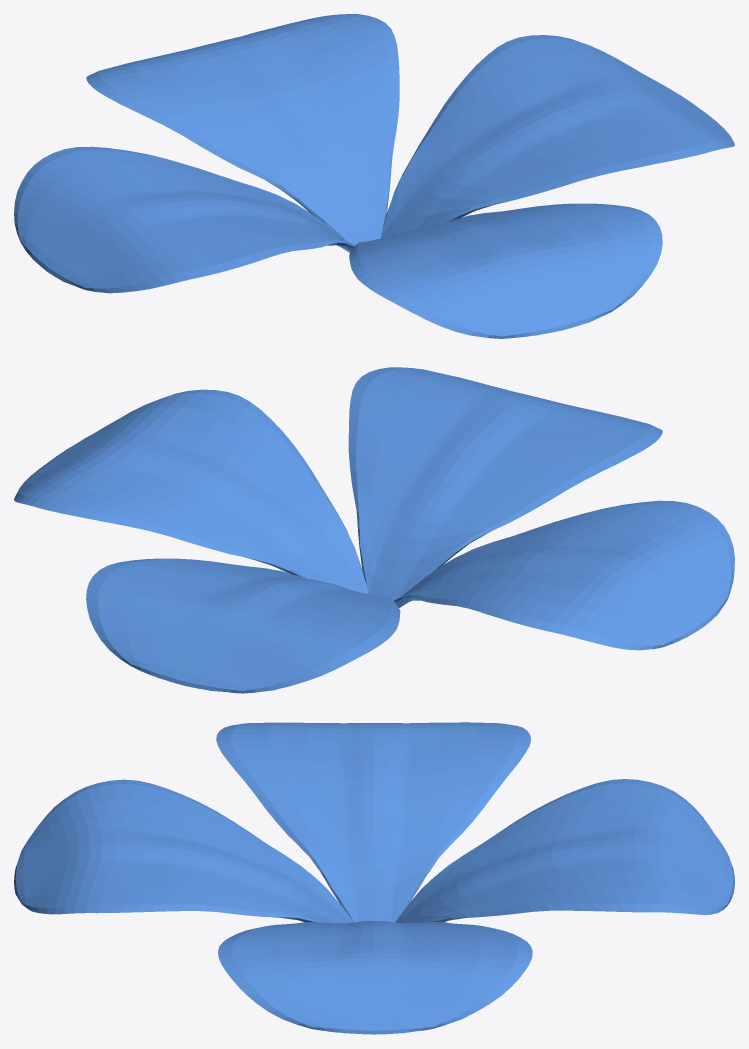
Rendered from m_blue_flower.gltf.
3 renders of one model, top to bottom at view 1: azimuth 30°, elevation 25°; view 2: azimuth 150°, elevation 25°; view 3: azimuth 270°, elevation 25°, orthographic. The views are drawn at different scales.
Visible parts, largest first — view 1: FleurBleue; view 2: FleurBleue; view 3: FleurBleue.
Part boxes in pixels (bbox=[...]): FleurBleue: bbox=[14, 14, 734, 338]; FleurBleue: bbox=[14, 367, 734, 693]; FleurBleue: bbox=[14, 722, 734, 1034].
Bounding box in the file's own units: 0.1143 × 0.0189 × 0.1143.
